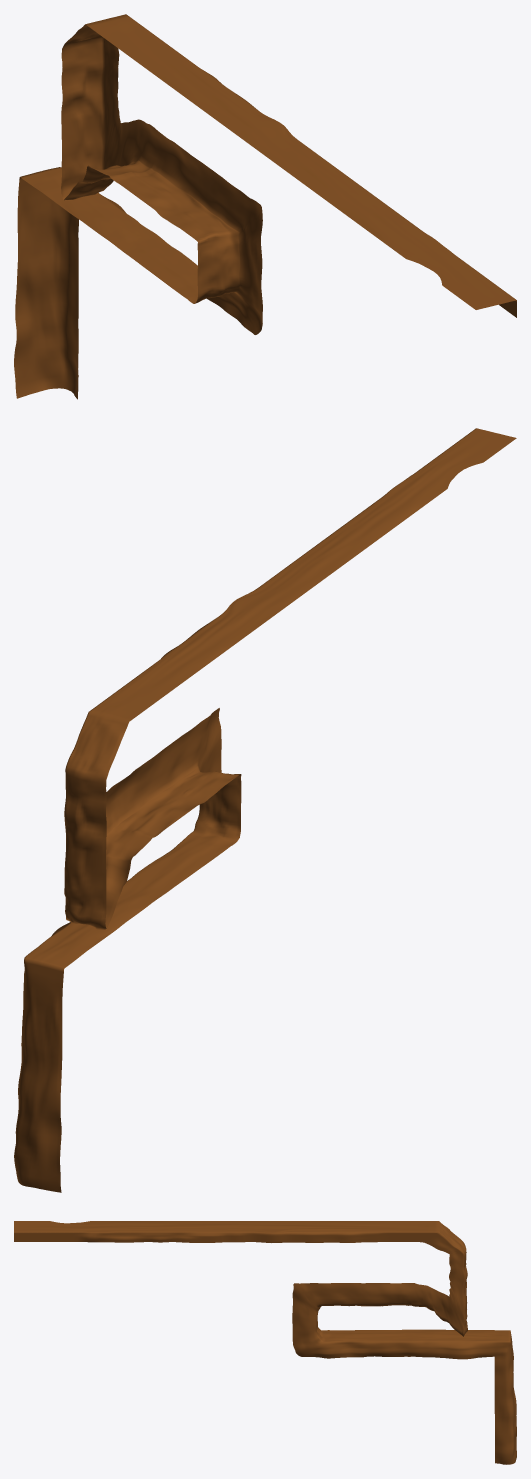
File: Terreno_Izquierda.fbx
The picture shows the model from 3 angles, top to bottom: view 1: azimuth 30°, elevation 25°; view 2: azimuth 150°, elevation 25°; view 3: azimuth 270°, elevation 25°; orthographic projection. The views are drawn at different scales.
Parts seen in each view (by area): view 1: Retopo_Blocking.002; view 2: Retopo_Blocking.002; view 3: Retopo_Blocking.002.
Part boxes in pixels (<box>): Retopo_Blocking.002: <box>14,14,516,399</box>; Retopo_Blocking.002: <box>14,428,516,1192</box>; Retopo_Blocking.002: <box>14,1221,516,1464</box>.
Size of the model in its own units: 10.96 by 81.15 by 159.
